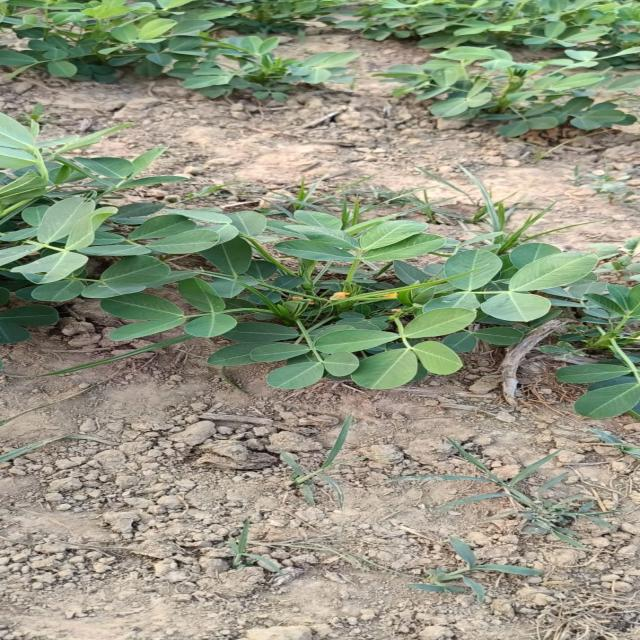plant: (0, 118, 638, 390), (557, 334, 640, 418)
